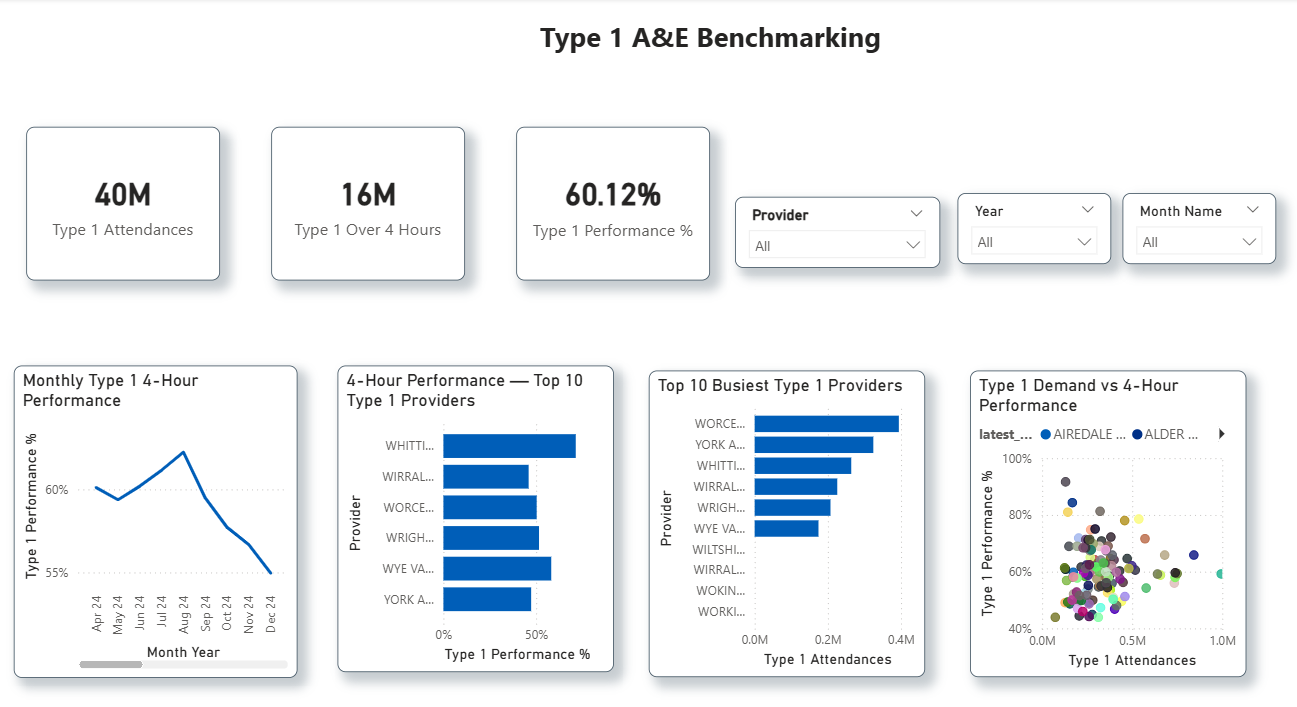

What the dashboard file says about the page in this screenshot:
{"tool":"powerbi","page":{"name":"Type 1 Benchmarking","canvas":[1280,720],"ordinal":2},"visuals":[{"type":"card","fields":{"Values":["public ae_type1_provider_month.Type 1 Attendances"]},"box":[30.6,126,189.5,150],"z":0},{"type":"card","fields":{"Values":["public ae_type1_provider_month.Type 1 Over 4 Hours"]},"box":[270.2,126,189.5,150],"z":1000},{"type":"card","fields":{"Values":["public ae_type1_provider_month.Type 1 Performance %"]},"box":[509.9,126,189.5,150.4],"z":2000},{"type":"slicer","fields":{"Values":["public provider_dimension.latest_org_name"]},"box":[723.9,194.4,200.5,69.7],"z":3000},{"type":"clusteredBarChart","title":"Top 10 Busiest Type 1 Providers","fields":{"Category":["public provider_dimension.latest_org_name"],"Y":["public ae_type1_provider_month.Type 1 Attendances"]},"box":[639.5,364.4,270,300],"z":4000},{"type":"clusteredBarChart","title":"4-Hour Performance — Top 10 Type 1 Providers","fields":{"Category":["public provider_dimension.latest_org_name"],"Y":["public ae_type1_provider_month.Type 1 Performance %"]},"box":[335.1,359.5,270,300],"z":5000},{"type":"scatterChart","title":"Type 1 Demand vs 4-Hour Performance","fields":{"X":["public ae_type1_provider_month.Type 1 Attendances"],"Y":["public ae_type1_provider_month.Type 1 Performance %"],"Series":["public provider_dimension.latest_org_name"]},"box":[953.8,364.4,270,300],"z":6000},{"type":"slicer","fields":{"Values":["DateTable.Year"]},"box":[941.6,190.8,150.4,69.7],"z":7000},{"type":"slicer","fields":{"Values":["DateTable.Month Name"]},"box":[1103,190.8,150.4,69.7],"z":8000},{"type":"lineChart","title":"Monthly Type 1 4-Hour Performance","fields":{"Y":["public ae_type1_provider_month.Type 1 Performance %"],"Category":["DateTable.Month Year"]},"box":[18.3,359.5,277.6,305.7],"z":9000},{"type":"textbox","box":[520,14.7,360.7,70.9],"z":10000}]}

Visuals, with their boxes on the page's 1280x720 design canvas (x1, y1, x2, y2). These are canvas units, not pixel positions in the 1297x707 screenshot, which may show the page scaled, cropped or inside an application window:
card - public ae_type1_provider_month.Type 1 Attendances: left=31, top=126, right=220, bottom=276
card - public ae_type1_provider_month.Type 1 Over 4 Hours: left=270, top=126, right=460, bottom=276
card - public ae_type1_provider_month.Type 1 Performance %: left=510, top=126, right=699, bottom=276
slicer - public provider_dimension.latest_org_name: left=724, top=194, right=924, bottom=264
"Top 10 Busiest Type 1 Providers" clusteredBarChart: left=640, top=364, right=910, bottom=664
"4-Hour Performance — Top 10 Type 1 Providers" clusteredBarChart: left=335, top=360, right=605, bottom=660
"Type 1 Demand vs 4-Hour Performance" scatterChart: left=954, top=364, right=1224, bottom=664
slicer - DateTable.Year: left=942, top=191, right=1092, bottom=260
slicer - DateTable.Month Name: left=1103, top=191, right=1253, bottom=260
"Monthly Type 1 4-Hour Performance" lineChart: left=18, top=360, right=296, bottom=665
textbox: left=520, top=15, right=881, bottom=86
